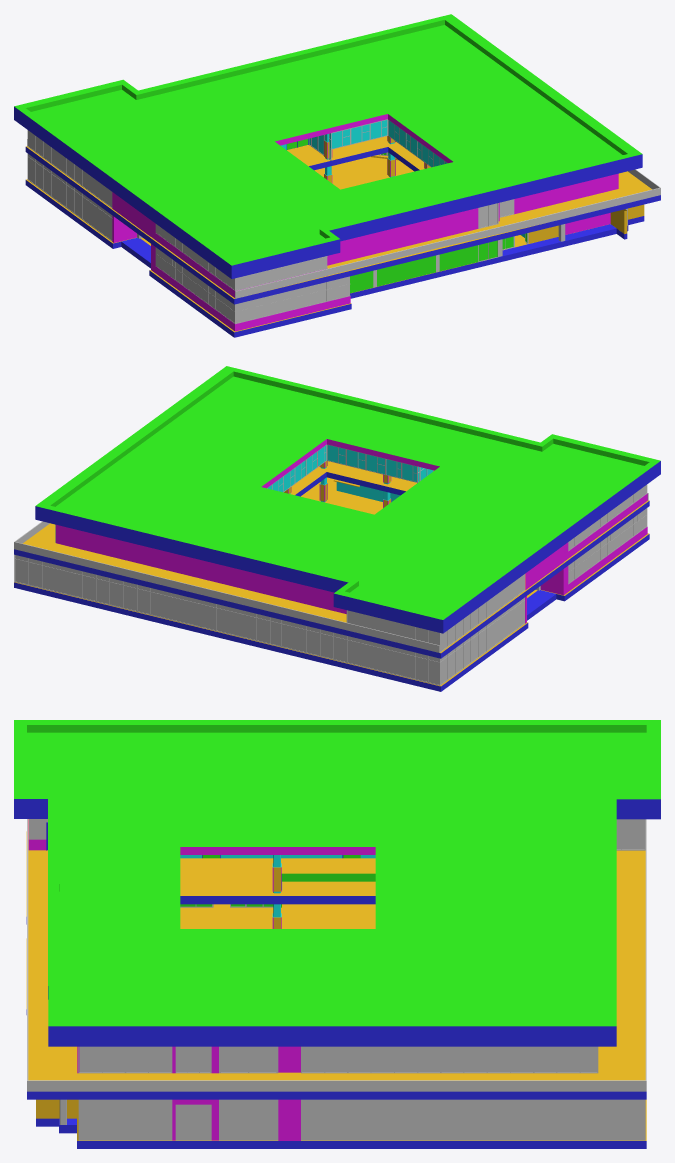
The model's file is buildingA.fbx.
3 renders of one model, top to bottom at view 1: azimuth 30°, elevation 25°; view 2: azimuth 150°, elevation 25°; view 3: azimuth 270°, elevation 25°, orthographic. The views are drawn at different scales.
Parts seen in each view (by area): view 1: flagstone_rooftop, mirror_glass, outside_wall, flagstone_first_floor, flagstone_low_level, frameworkwindow, outside_riling, outside_big_doors, inside_window, center_columns; view 2: flagstone_rooftop, mirror_glass, flagstone_first_floor, outside_wall, flagstone_low_level, frameworkwindow, outside_riling, inside_window, inside_bathroom_walls; view 3: flagstone_rooftop, mirror_glass, flagstone_first_floor, flagstone_low_level, outside_riling, frameworkwindow, outside_wall, inside_walls.
Boxes of the visible parts, x1=… form: flagstone_rooftop: x1=14, y1=14, x2=642, y2=278; mirror_glass: x1=28, y1=130, x2=513, y2=323; outside_wall: x1=112, y1=173, x2=644, y2=331; flagstone_first_floor: x1=25, y1=136, x2=660, y2=304; flagstone_low_level: x1=25, y1=156, x2=644, y2=337; frameworkwindow: x1=27, y1=119, x2=528, y2=323; outside_riling: x1=27, y1=139, x2=660, y2=298; outside_big_doors: x1=350, y1=213, x2=610, y2=293; inside_window: x1=309, y1=120, x2=527, y2=261; center_columns: x1=324, y1=134, x2=430, y2=183; flagstone_rooftop: x1=35, y1=366, x2=660, y2=633; mirror_glass: x1=15, y1=485, x2=646, y2=684; flagstone_first_floor: x1=14, y1=461, x2=649, y2=658; outside_wall: x1=56, y1=493, x2=647, y2=623; flagstone_low_level: x1=14, y1=477, x2=649, y2=691; frameworkwindow: x1=14, y1=444, x2=647, y2=685; outside_riling: x1=14, y1=493, x2=648, y2=652; inside_window: x1=268, y1=445, x2=432, y2=492; inside_bathroom_walls: x1=336, y1=482, x2=400, y2=501; flagstone_rooftop: x1=14, y1=720, x2=660, y2=1046; mirror_glass: x1=29, y1=819, x2=644, y2=1139; flagstone_first_floor: x1=26, y1=819, x2=646, y2=1099; flagstone_low_level: x1=26, y1=831, x2=646, y2=1148; outside_riling: x1=27, y1=819, x2=646, y2=1091; frameworkwindow: x1=29, y1=819, x2=645, y2=1140; outside_wall: x1=28, y1=819, x2=300, y2=1140; inside_walls: x1=180, y1=855, x2=375, y2=907.
Size of the model in its own units: 4996 by 848 by 4343.
